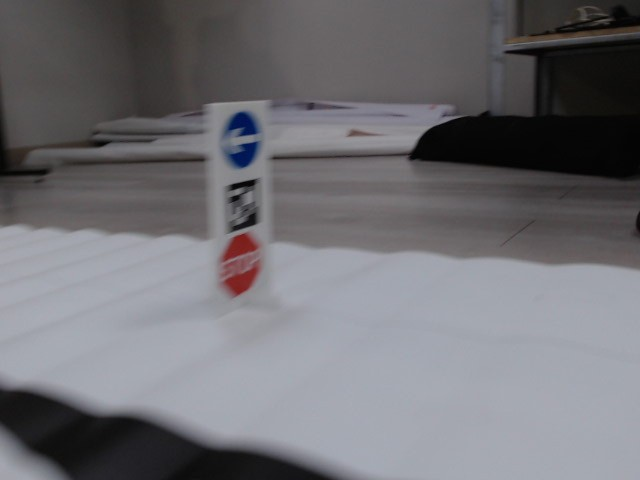Stop: (214, 235, 265, 297)
